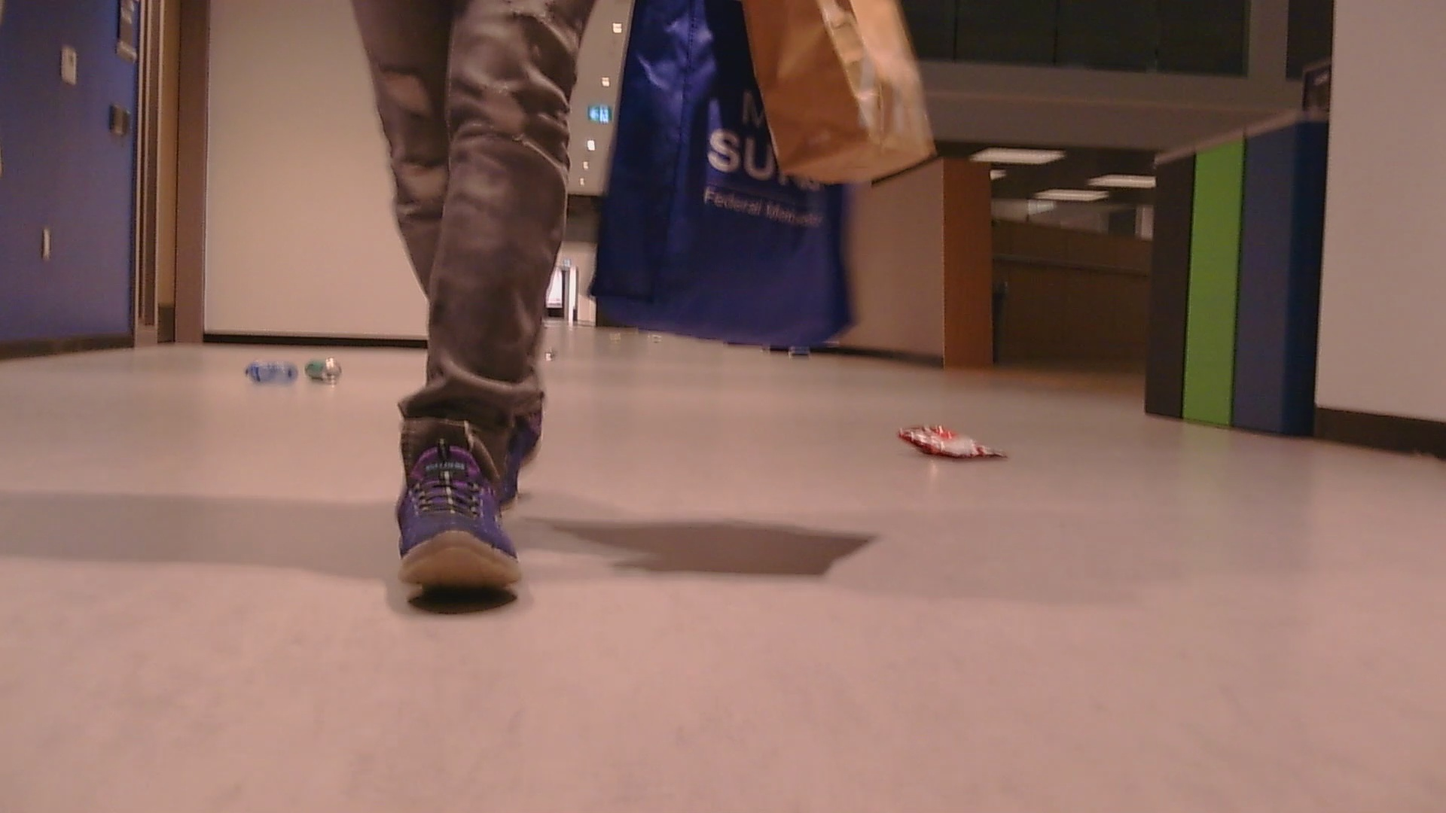carton: (892, 411, 1021, 492), (300, 351, 356, 389), (232, 354, 292, 387)
